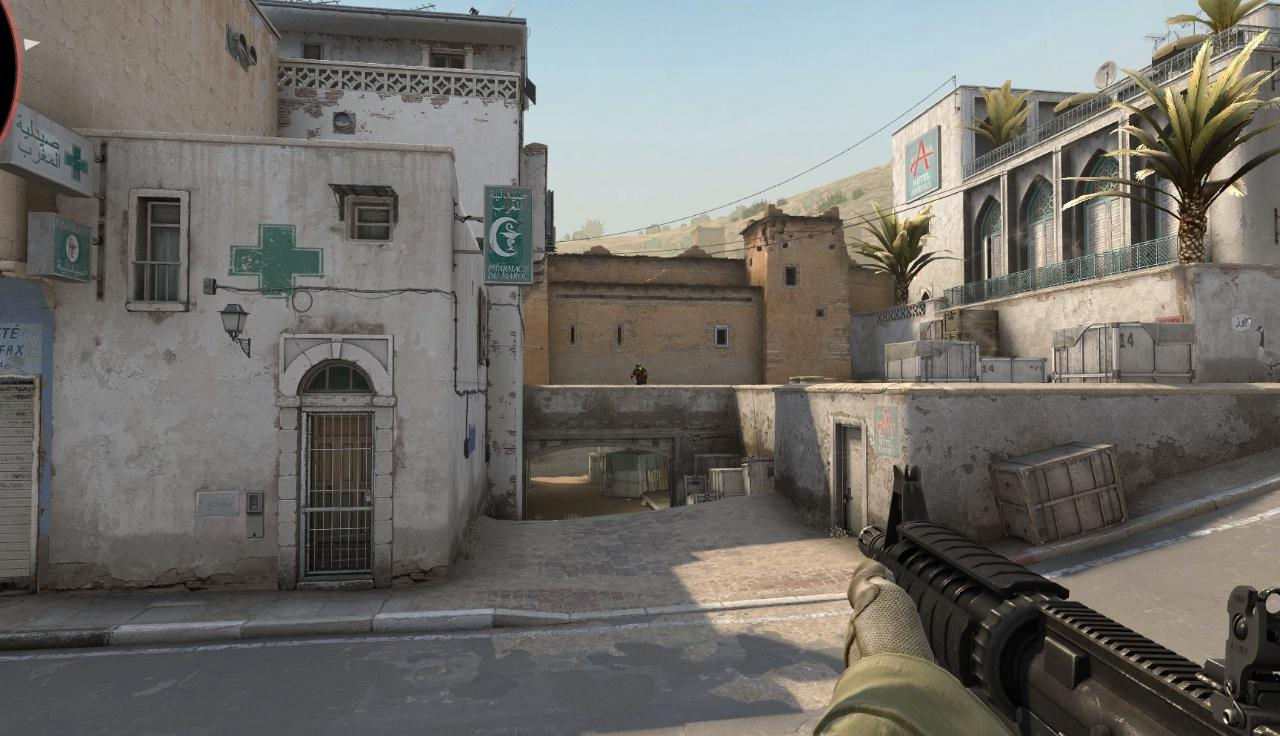rifle: (850, 463, 1280, 736)
tt: (634, 363, 647, 385)
tthead: (635, 363, 642, 370)
